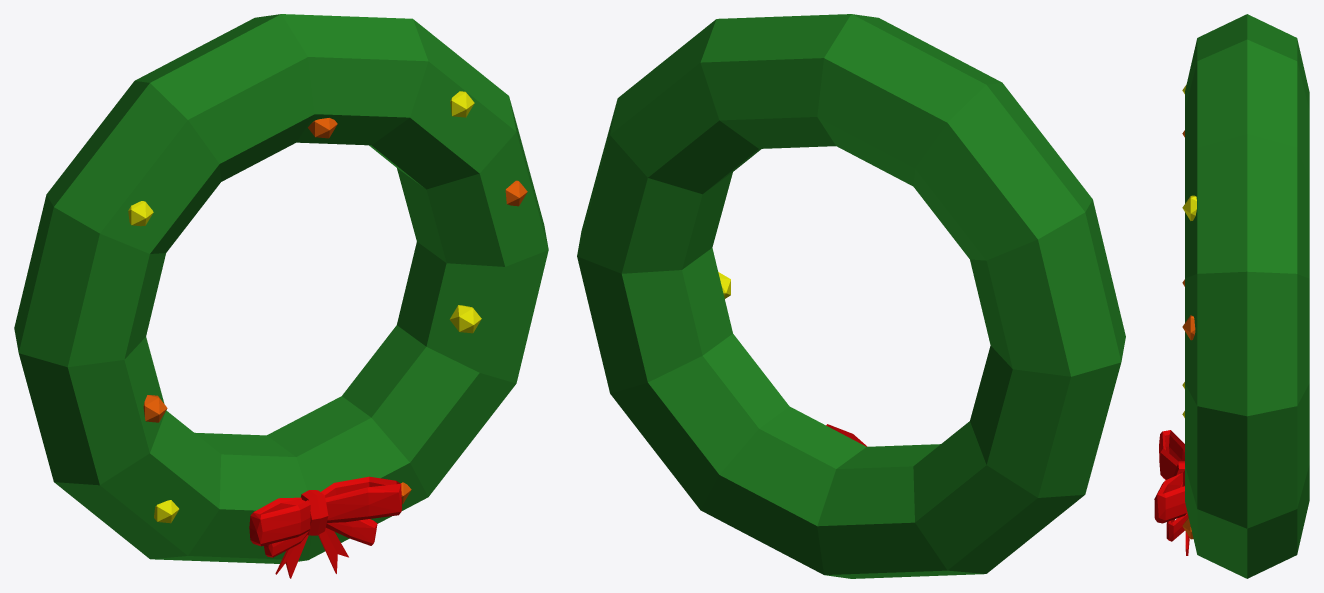
The model's file is Wreath.fbx.
The picture shows the model from 3 angles, left to right: view 1: azimuth 30°, elevation 25°; view 2: azimuth 150°, elevation 25°; view 3: azimuth 270°, elevation 25°; orthographic projection. The views are drawn at different scales.
Visible parts, largest first — view 1: Wreath; view 2: Wreath; view 3: Wreath.
Boxes of the visible parts, bbox=[...] form: Wreath: bbox=[14, 14, 548, 578]; Wreath: bbox=[577, 14, 1125, 578]; Wreath: bbox=[1154, 14, 1309, 578].
Bounding box in the file's own units: 142 × 142 × 38.82.
